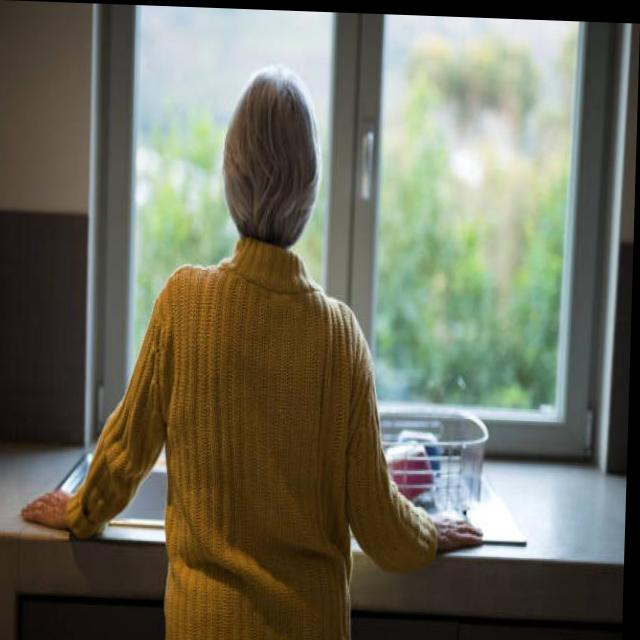no helmet: (213, 50, 332, 291)
